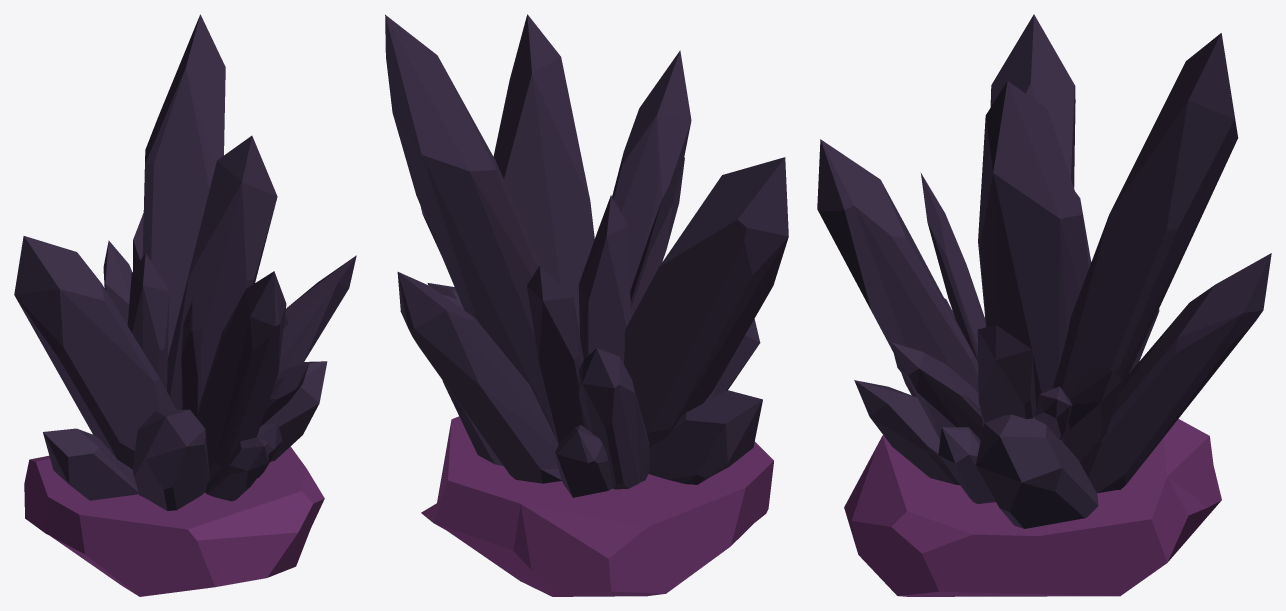
Rendered from spikes.fbx.
3 renders of one model, left to right at view 1: azimuth 30°, elevation 25°; view 2: azimuth 150°, elevation 25°; view 3: azimuth 270°, elevation 25°, orthographic. The views are drawn at different scales.
Visible parts, largest first — view 1: Sphere.001, Cube.040, Cube.039, Cube.037, Cube.050, Cube.049, Cube.052, Cube.043, Cube.041, Cube.044, Cube.054, Cube.047 (+3 smaller); view 2: Sphere.001, Cube.040, Cube.039, Cube.037, Cube.046, Cube.050, Cube.052, Cube.038, Cube.041, Cube.055, Cube.048, Cube.047 (+2 smaller); view 3: Sphere.001, Cube.039, Cube.037, Cube.050, Cube.046, Cube.044, Cube.040, Cube.043, Cube.054, Cube.045, Cube.047, Cube.053 (+2 smaller).
Boxes of the visible parts, x1,y1,x2,y2 form: Sphere.001: [24, 446, 324, 596]; Cube.040: [14, 236, 176, 469]; Cube.039: [142, 14, 225, 356]; Cube.037: [167, 135, 277, 409]; Cube.050: [197, 271, 286, 478]; Cube.049: [132, 409, 209, 510]; Cube.052: [43, 428, 138, 500]; Cube.043: [278, 255, 356, 373]; Cube.041: [127, 253, 169, 390]; Cube.044: [263, 361, 327, 461]; Cube.054: [205, 437, 268, 501]; Cube.047: [181, 300, 201, 417]; Sphere.001: [421, 416, 773, 596]; Cube.040: [623, 157, 788, 447]; Cube.039: [385, 14, 554, 435]; Cube.037: [493, 14, 594, 334]; Cube.046: [397, 272, 561, 483]; Cube.050: [612, 50, 691, 290]; Cube.052: [648, 390, 762, 484]; Cube.038: [578, 348, 649, 489]; Cube.041: [578, 195, 630, 363]; Cube.055: [527, 265, 583, 445]; Cube.048: [555, 425, 611, 497]; Cube.047: [630, 157, 684, 318]; Sphere.001: [844, 419, 1221, 596]; Cube.039: [1052, 33, 1238, 397]; Cube.037: [978, 81, 1088, 408]; Cube.050: [817, 139, 978, 440]; Cube.046: [1081, 253, 1271, 493]; Cube.044: [975, 414, 1098, 528]; Cube.040: [985, 14, 1075, 318]; Cube.043: [977, 325, 1036, 426]; Cube.054: [854, 380, 959, 485]; Cube.045: [891, 342, 983, 440]; Cube.047: [920, 172, 985, 360]; Cube.053: [1062, 365, 1121, 463].
Bounding box in the file's own units: 352 × 475 × 332.
